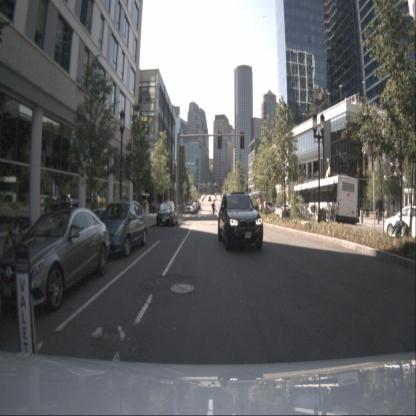human-pedestrian-adult: (152, 198, 155, 217)
movable_object-trafficcone: (408, 210, 413, 244)
vehicle-bicycle: (2, 220, 30, 266), (209, 199, 219, 217)
vehicle-bus-rigid: (294, 175, 358, 224), (0, 175, 18, 204), (248, 190, 268, 210)
vehicle-car: (0, 205, 111, 312), (96, 200, 148, 258), (218, 192, 264, 252), (384, 205, 416, 242), (156, 200, 178, 226), (52, 193, 73, 214), (184, 202, 194, 214), (282, 204, 290, 218), (191, 202, 196, 213), (190, 204, 195, 213), (196, 202, 201, 210)
vehicle-truck: (264, 201, 275, 215)
